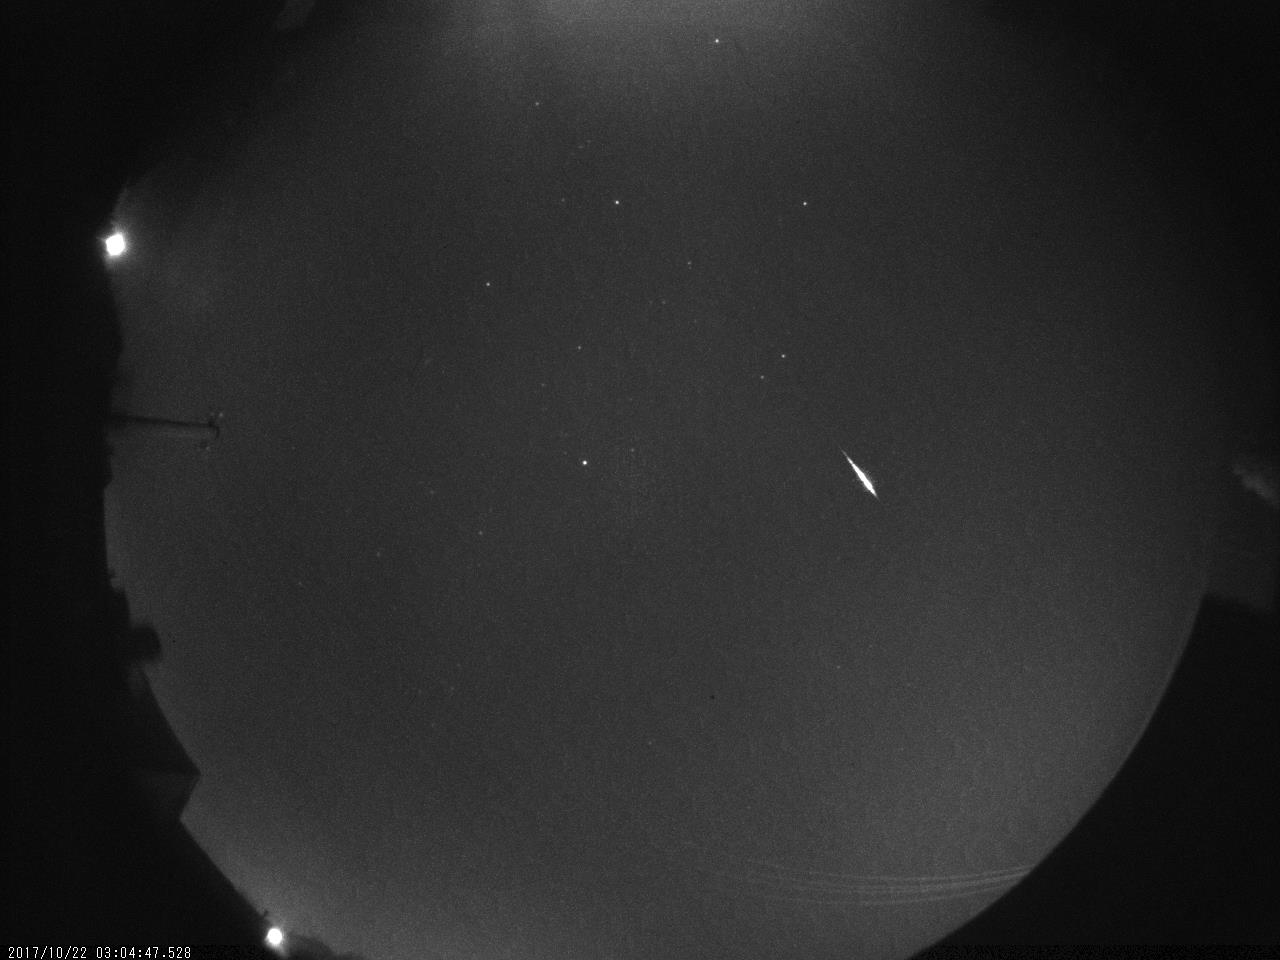meteor: (813, 424, 904, 513)
